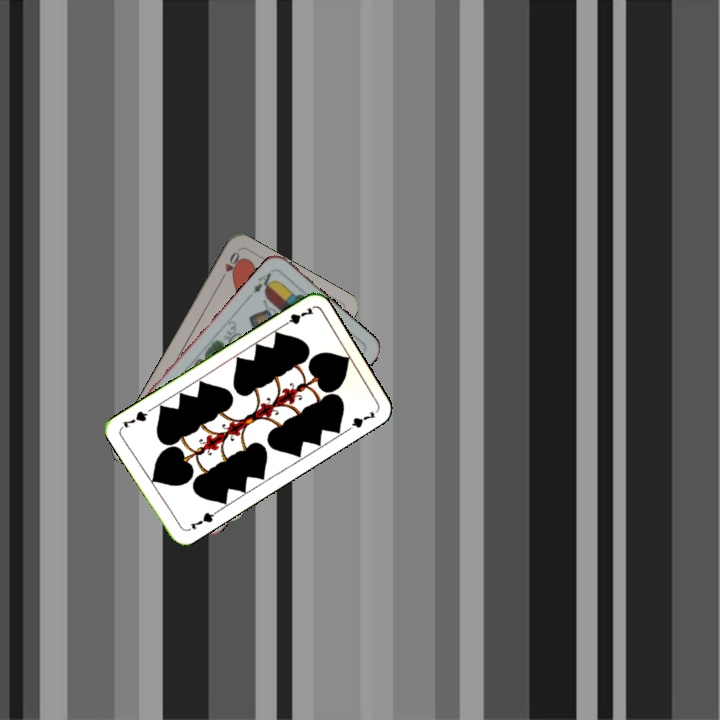EA: (249, 266, 277, 296)
G7: (277, 303, 316, 330), (183, 507, 219, 534)
HO: (216, 248, 243, 284)
